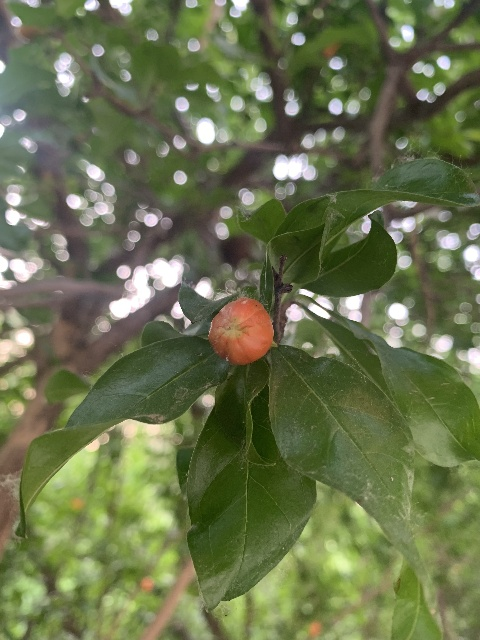bud: (208, 296, 273, 366)
